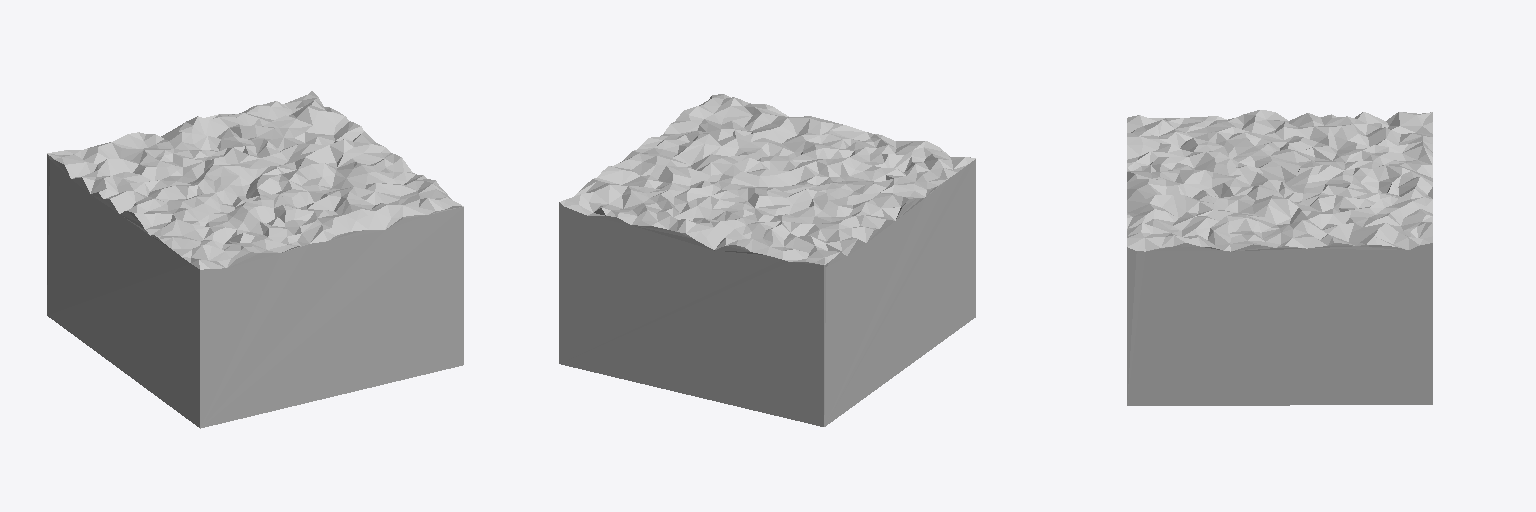
Rendered from water_000008.obj.
3 views of the same model, side by side, from view 1: azimuth 30°, elevation 25°; view 2: azimuth 150°, elevation 25°; view 3: azimuth 270°, elevation 25° (orthographic).
Parts seen in each view (by area): view 1: Plane; view 2: Plane; view 3: Plane.
Part boxes in pixels (bbox=[...]): Plane: bbox=[47, 91, 463, 428]; Plane: bbox=[559, 94, 975, 426]; Plane: bbox=[1127, 110, 1432, 405].
Bounding box in the file's own units: 16.15 × 9.93 × 16.12.